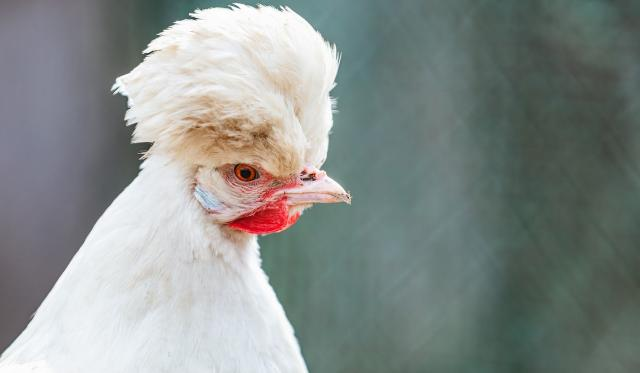Chicken: (0, 2, 351, 373)
